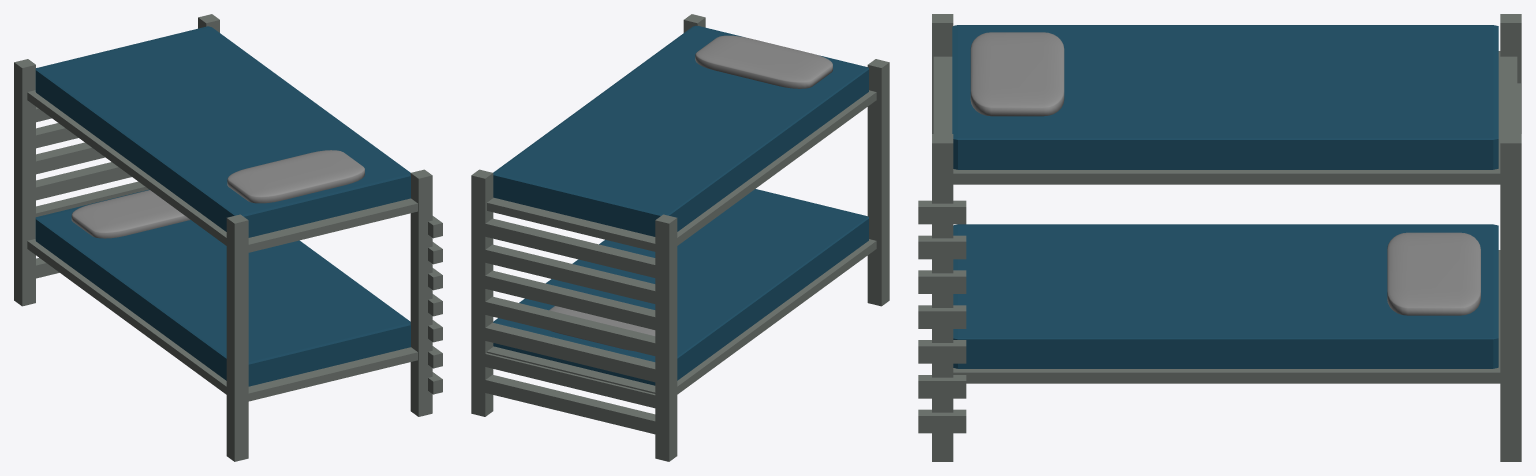
Rendered from BunkBeds.fbx.
3 renders of one model, left to right at view 1: azimuth 30°, elevation 25°; view 2: azimuth 150°, elevation 25°; view 3: azimuth 270°, elevation 25°, orthographic. The views are drawn at different scales.
Parts seen in each view (by area): view 1: Cube.005, Cube.006, Cube, Cube.002, Cube.001, Cube.003, Cube.007, Cube.008, Cube.004; view 2: Cube.005, Cube.003, Cube.006, Cube, Cube.002, Cube.007, Cube.001, Cube.008; view 3: Cube.005, Cube.006, Cube, Cube.002, Cube.001, Cube.004, Cube.007, Cube.008.
Part boxes in pixels (x1,y1,x2,y2): Cube.005: (35, 26, 410, 237); Cube.006: (35, 189, 410, 386); Cube: (14, 14, 432, 461); Cube.002: (27, 90, 417, 252); Cube.001: (27, 239, 417, 401); Cube.003: (36, 107, 148, 278); Cube.007: (227, 150, 364, 203); Cube.008: (71, 190, 190, 238); Cube.004: (428, 216, 442, 394); Cube.005: (493, 25, 868, 236); Cube.003: (485, 218, 655, 434); Cube.006: (493, 189, 868, 385); Cube: (471, 14, 889, 461); Cube.002: (487, 90, 876, 251); Cube.007: (695, 35, 832, 88); Cube.001: (487, 239, 876, 394); Cube.008: (549, 306, 655, 350); Cube.005: (952, 25, 1498, 169); Cube.006: (953, 224, 1498, 368); Cube: (932, 14, 1521, 461); Cube.002: (933, 51, 1517, 184); Cube.001: (953, 250, 1500, 383); Cube.004: (918, 200, 966, 433); Cube.007: (970, 32, 1064, 116); Cube.008: (1387, 232, 1480, 315).
Size of the model in its own units: 274 by 315 by 528.
